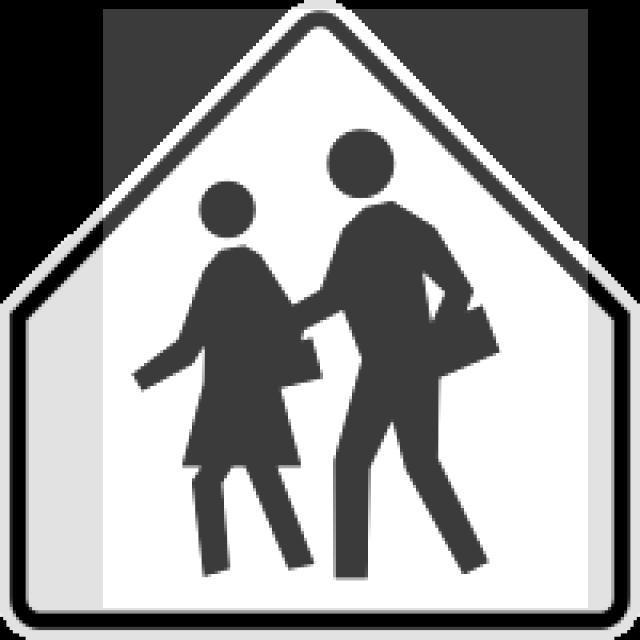school ahead: (29, 38, 609, 603)
